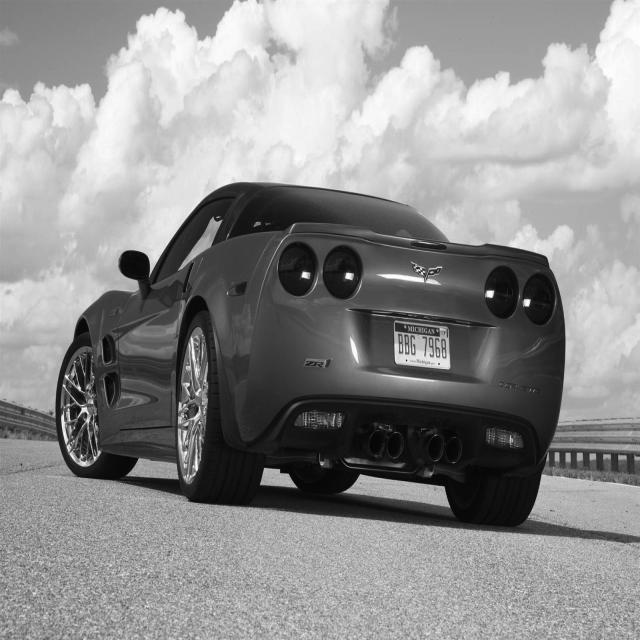car: (54, 179, 566, 526)
plat_license: (392, 319, 450, 370)
